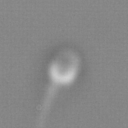normal: (28, 81, 59, 128)
